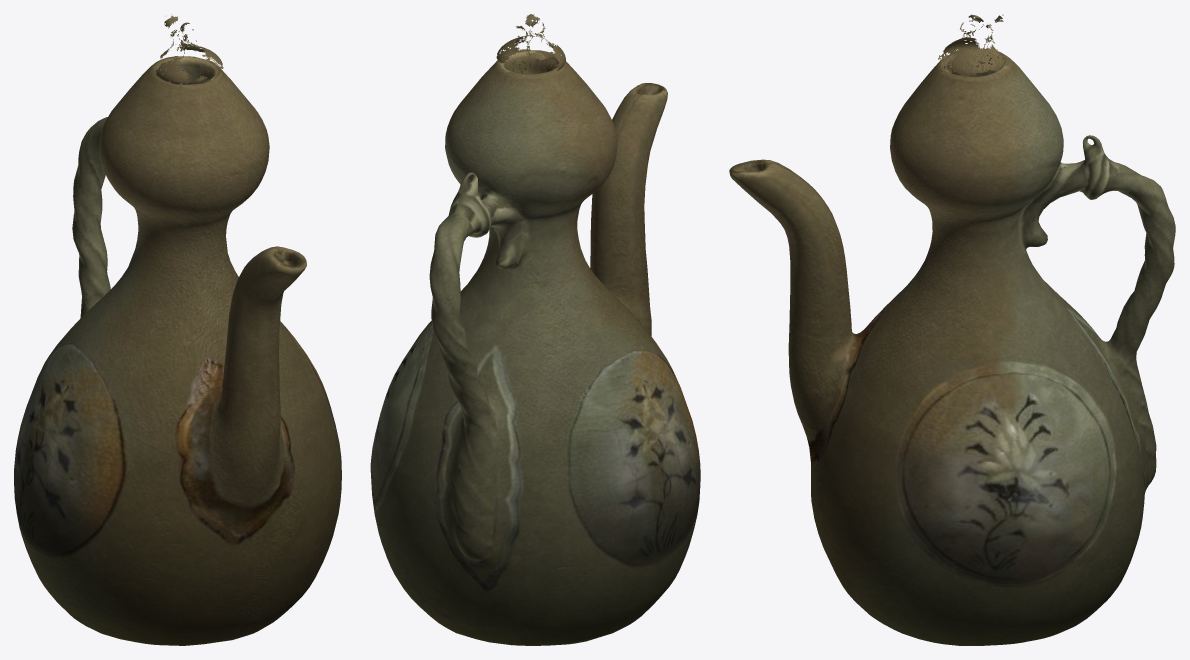
The model's file is kettle.glb.
3 views of the same model, side by side, from view 1: azimuth 30°, elevation 25°; view 2: azimuth 150°, elevation 25°; view 3: azimuth 270°, elevation 25° (orthographic). The views are drawn at different scales.
Parts seen in each view (by area): view 1: kettle, cap; view 2: kettle, cap; view 3: kettle, cap.
Part boxes in pixels (box(x1,y1,x2,y2)): kettle: box(14, 56, 341, 645); cap: box(155, 14, 223, 85); kettle: box(370, 50, 700, 645); cap: box(496, 14, 565, 74); kettle: box(729, 48, 1175, 645); cap: box(938, 14, 1004, 77).
Bounding box in the file's own units: 0.1298 × 0.2518 × 0.1723.
1 material, 1 textured.
